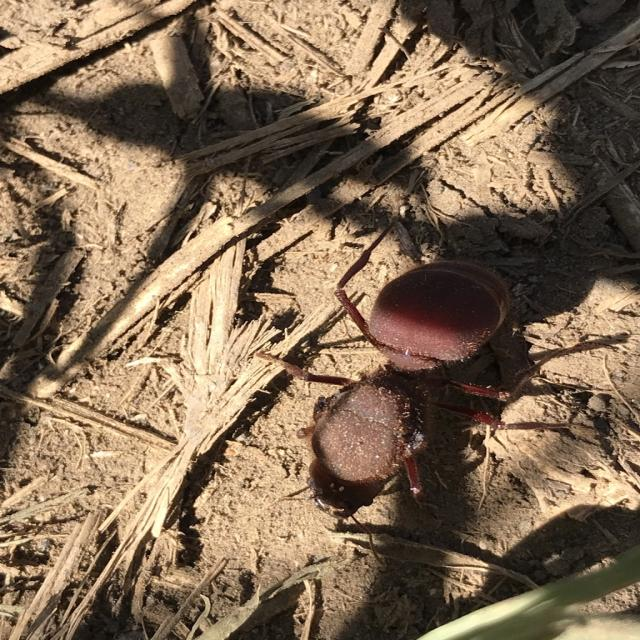Alive-Female-Dealate: (255, 220, 582, 568)
